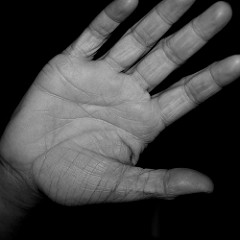palm: (24, 61, 162, 195)
